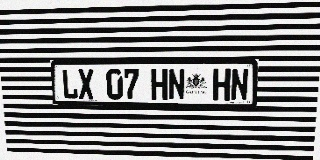0: (106, 69, 123, 100)
7: (123, 69, 139, 100)
H: (213, 69, 231, 101), (151, 69, 168, 100)
L: (61, 69, 78, 99)
N: (230, 68, 249, 101), (168, 69, 185, 100)
X: (78, 69, 94, 99)
